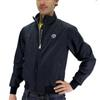abbigliamento_uomo: (10, 14, 94, 97)
